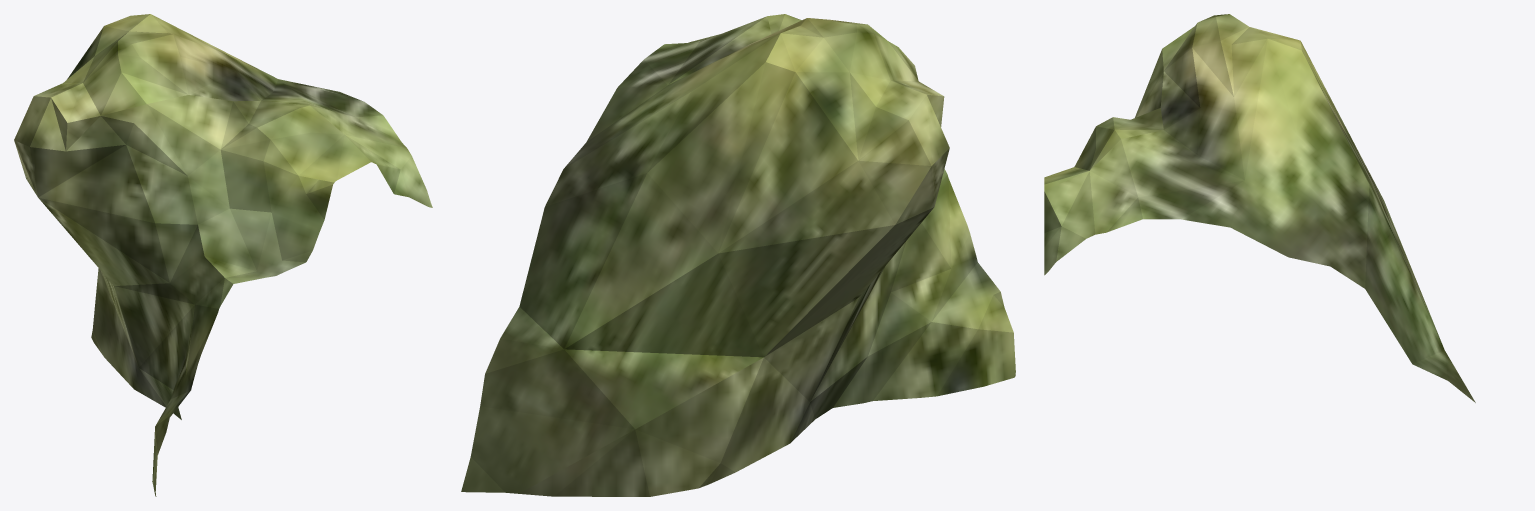
3 renders of one model, left to right at view 1: azimuth 30°, elevation 25°; view 2: azimuth 150°, elevation 25°; view 3: azimuth 270°, elevation 25°, orthographic. The views are drawn at different scales.
Size of the model in its own units: 0.8159 by 0.9453 by 1.09.
Materials: 1 (1 with a texture image).
